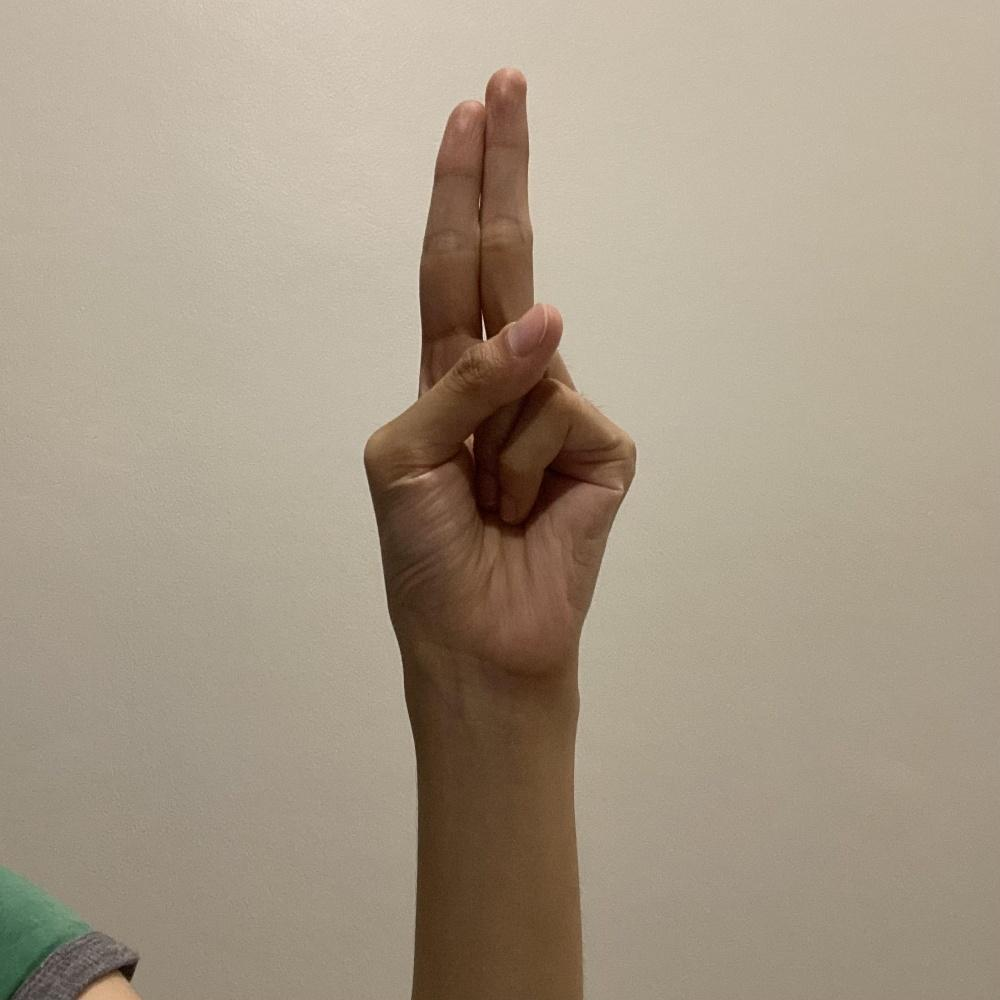u: (359, 61, 638, 668)
